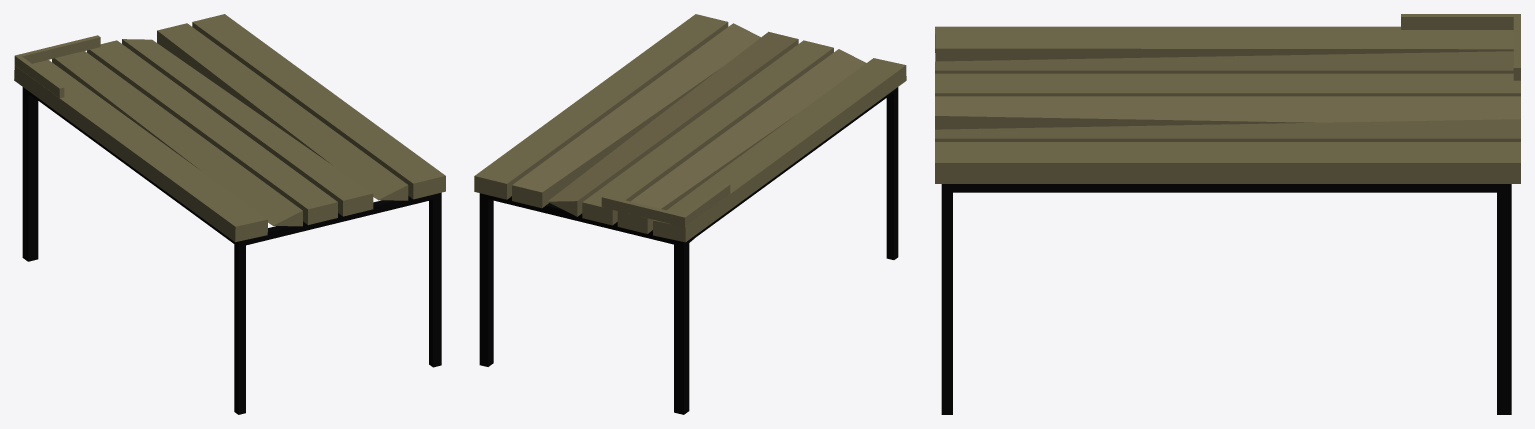
File: mesa precaria(con coso).glb
The picture shows the model from 3 angles, left to right: view 1: azimuth 30°, elevation 25°; view 2: azimuth 150°, elevation 25°; view 3: azimuth 270°, elevation 25°; orthographic projection. The views are drawn at different scales.
Visible parts, largest first — view 1: mesa madera; view 2: mesa madera; view 3: mesa madera.
Boxes of the visible parts, bbox=[...] form: mesa madera: bbox=[14, 14, 445, 414]; mesa madera: bbox=[474, 14, 906, 414]; mesa madera: bbox=[935, 14, 1520, 414].
Size of the model in its own units: 2.2 by 2 by 4.
